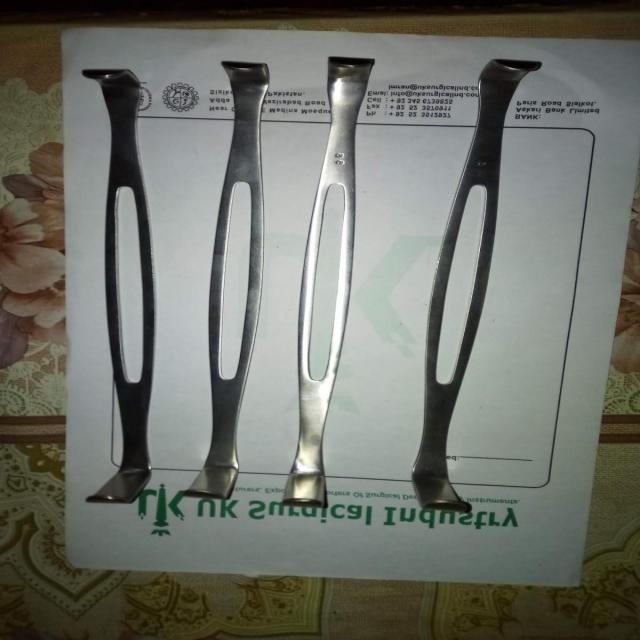Army_navy: (408, 54, 547, 516), (276, 53, 379, 513), (173, 57, 274, 504), (75, 64, 156, 510)
